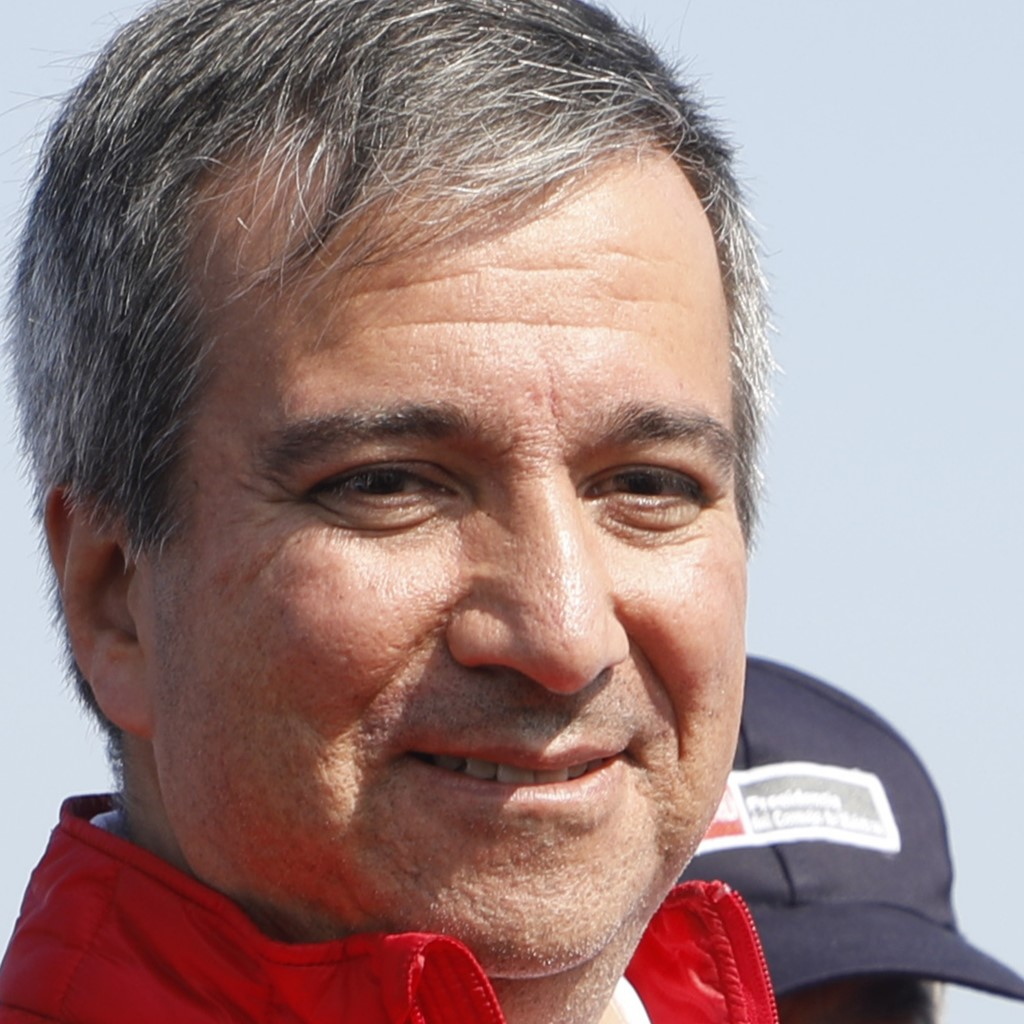sin_mascara: (48, 33, 745, 969)
